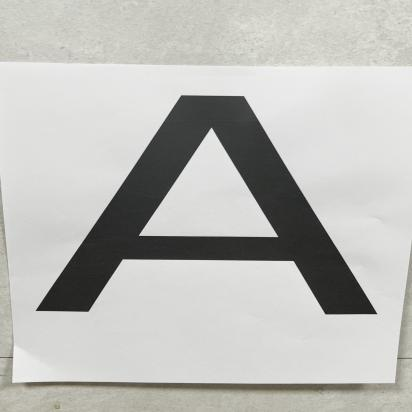seat: (30, 72, 407, 331)
